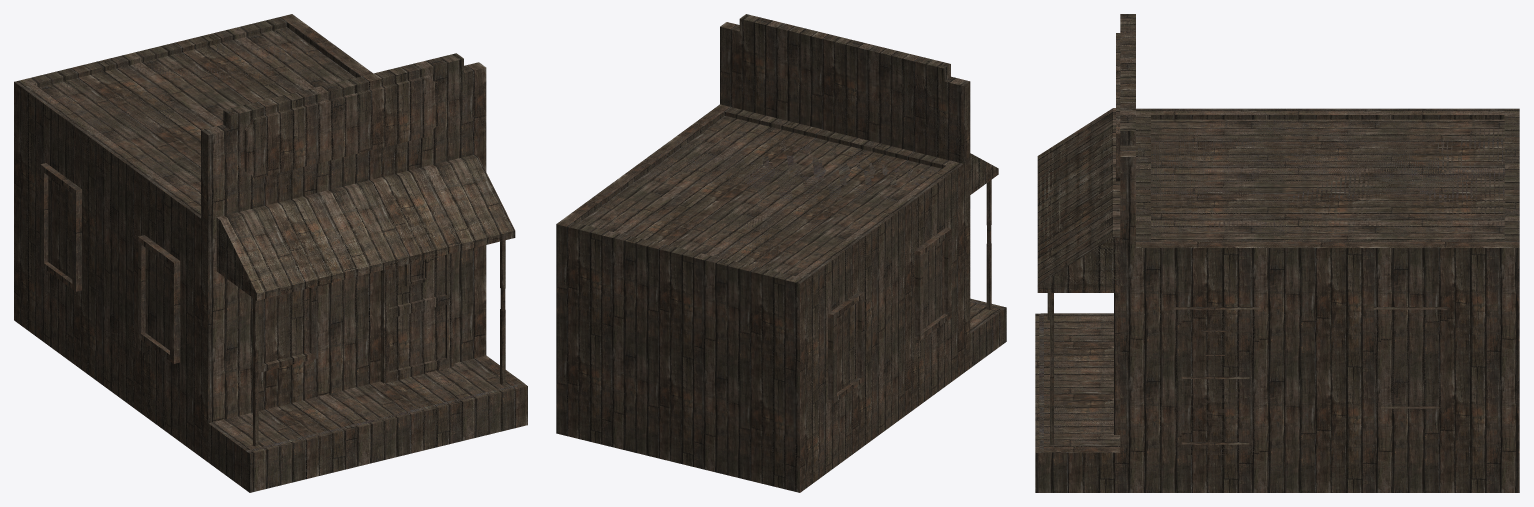
The model's file is House 8.fbx.
The picture shows the model from 3 angles, left to right: view 1: azimuth 30°, elevation 25°; view 2: azimuth 150°, elevation 25°; view 3: azimuth 270°, elevation 25°; orthographic projection. The views are drawn at different scales.
Visible parts, largest first — view 1: Model; view 2: Model; view 3: Model.
Boxes of the visible parts, x1=… form: Model: x1=14, y1=14, x2=527, y2=492; Model: x1=556, y1=14, x2=1006, y2=492; Model: x1=1035, y1=14, x2=1519, y2=492.
Size of the model in its own units: 33.27 by 37.51 by 46.92.
